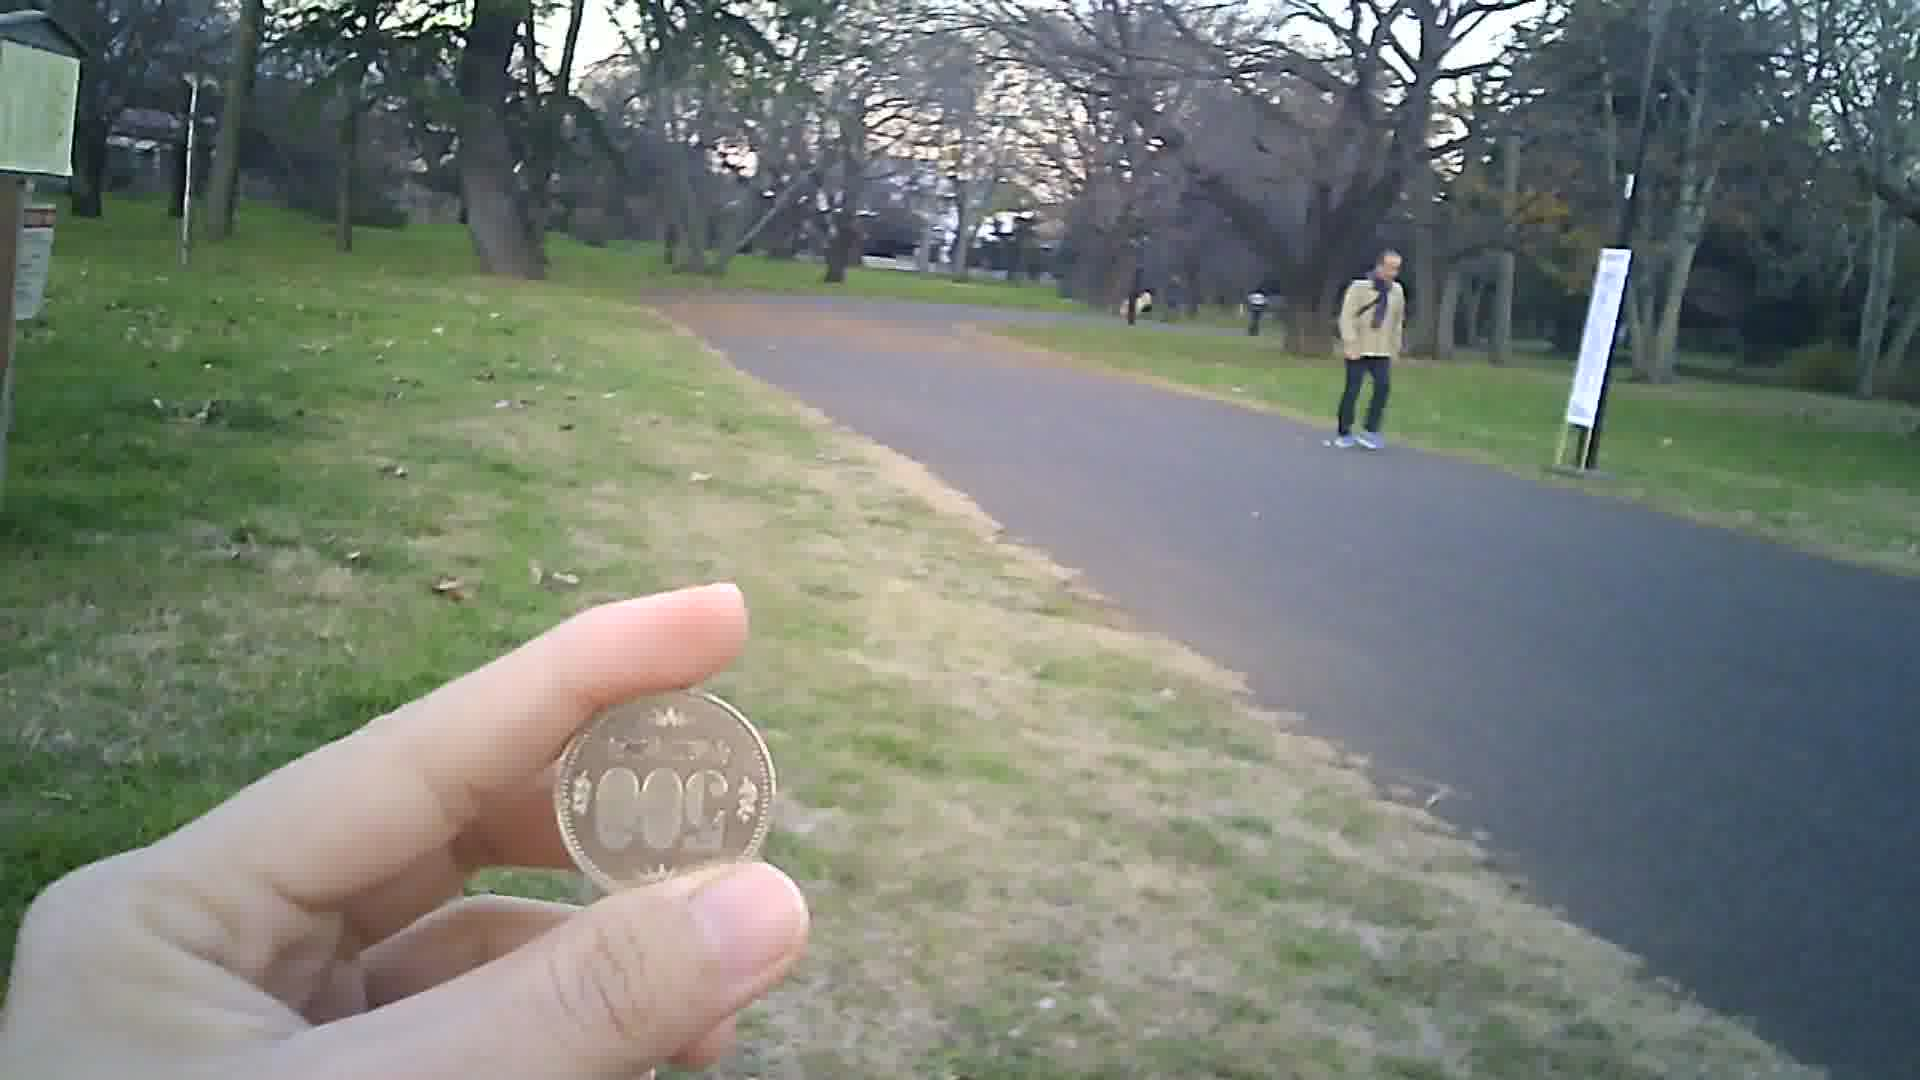500 Yen: (559, 678, 781, 899)
